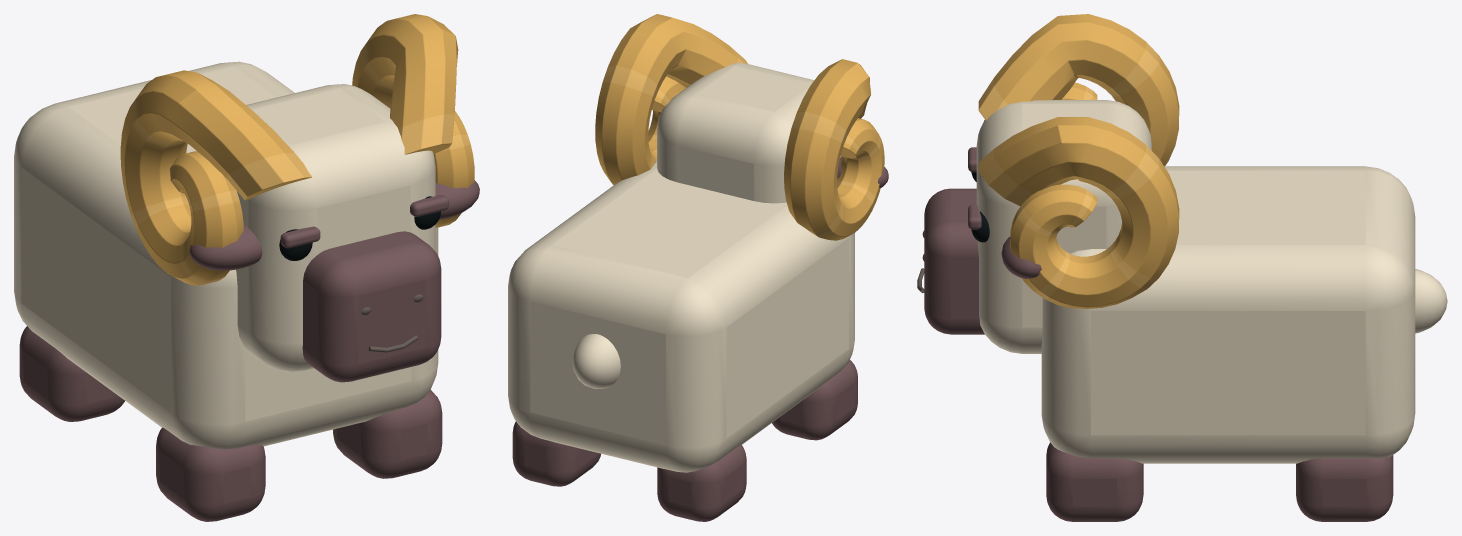
File: ram.glb
The picture shows the model from 3 angles, left to right: view 1: azimuth 30°, elevation 25°; view 2: azimuth 150°, elevation 25°; view 3: azimuth 270°, elevation 25°; orthographic projection. The views are drawn at different scales.
Visible parts, largest first — view 1: Plain softly squared fleece, Broad forehead, Full faceted spiral horn, Soft square mauve muzzle, Full faceted spiral horn.001, Tucked foot.010, Tucked foot.012, Tucked foot.011, Small sideways ear, Small sideways ear.001, Relaxed eyelid, Relaxed eyelid.001; view 2: Plain softly squared fleece, Broad forehead, Full faceted spiral horn, Full faceted spiral horn.001, Tucked foot.011, Tucked foot.010, Tucked foot.013, Small tail; view 3: Plain softly squared fleece, Full faceted spiral horn.001, Full faceted spiral horn, Broad forehead, Soft square mauve muzzle, Tucked foot.012, Tucked foot.013, Small tail, Small sideways ear.001.
Boxes of the visible parts, x1=… form: Plain softly squared fleece: x1=14, y1=61, x2=438, y2=449; Broad forehead: x1=236, y1=84, x2=435, y2=371; Full faceted spiral horn: x1=120, y1=70, x2=311, y2=285; Soft square mauve muzzle: x1=302, y1=231, x2=441, y2=382; Full faceted spiral horn.001: x1=352, y1=14, x2=474, y2=227; Tucked foot.010: x1=156, y1=427, x2=265, y2=521; Tucked foot.012: x1=333, y1=389, x2=442, y2=478; Tucked foot.011: x1=19, y1=326, x2=124, y2=421; Small sideways ear: x1=189, y1=224, x2=262, y2=270; Small sideways ear.001: x1=435, y1=180, x2=479, y2=219; Relaxed eyelid: x1=280, y1=226, x2=320, y2=248; Relaxed eyelid.001: x1=410, y1=195, x2=448, y2=216; Plain softly squared fleece: x1=508, y1=160, x2=854, y2=472; Broad forehead: x1=657, y1=63, x2=841, y2=203; Full faceted spiral horn: x1=784, y1=59, x2=884, y2=240; Full faceted spiral horn.001: x1=595, y1=14, x2=747, y2=185; Tucked foot.011: x1=657, y1=445, x2=746, y2=521; Tucked foot.010: x1=772, y1=360, x2=857, y2=440; Tucked foot.013: x1=512, y1=421, x2=600, y2=486; Small tail: x1=572, y1=334, x2=620, y2=388; Plain softly squared fleece: x1=1041, y1=166, x2=1415, y2=463; Full faceted spiral horn.001: x1=978, y1=117, x2=1179, y2=308; Full faceted spiral horn: x1=978, y1=14, x2=1179, y2=166; Broad forehead: x1=976, y1=100, x2=1151, y2=353; Soft square mauve muzzle: x1=924, y1=188, x2=984, y2=334; Tucked foot.012: x1=1046, y1=442, x2=1143, y2=521; Tucked foot.013: x1=1296, y1=455, x2=1393, y2=521; Small tail: x1=1415, y1=269, x2=1447, y2=333; Small sideways ear.001: x1=1001, y1=237, x2=1041, y2=278.
Size of the model in its own units: 1.46 by 2.11 by 2.5.
